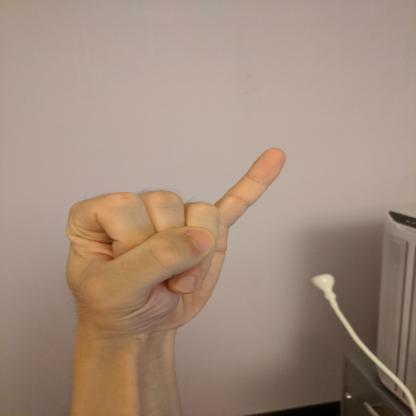I: (57, 144, 290, 337)
